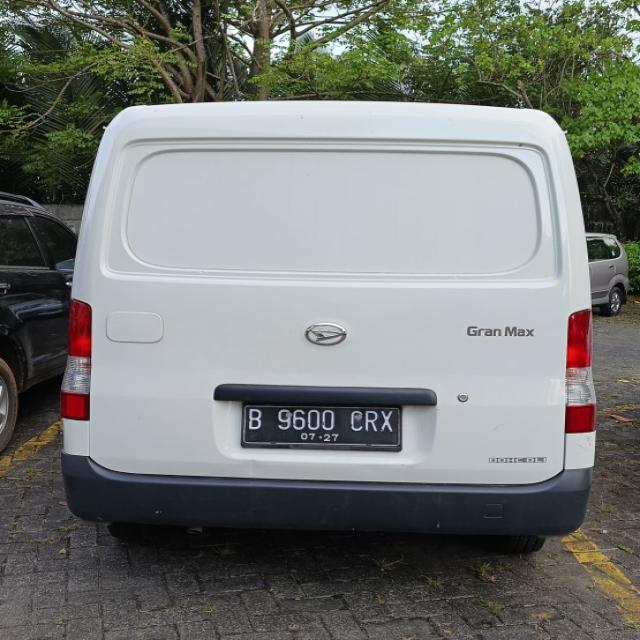plates: (244, 394, 402, 452)
